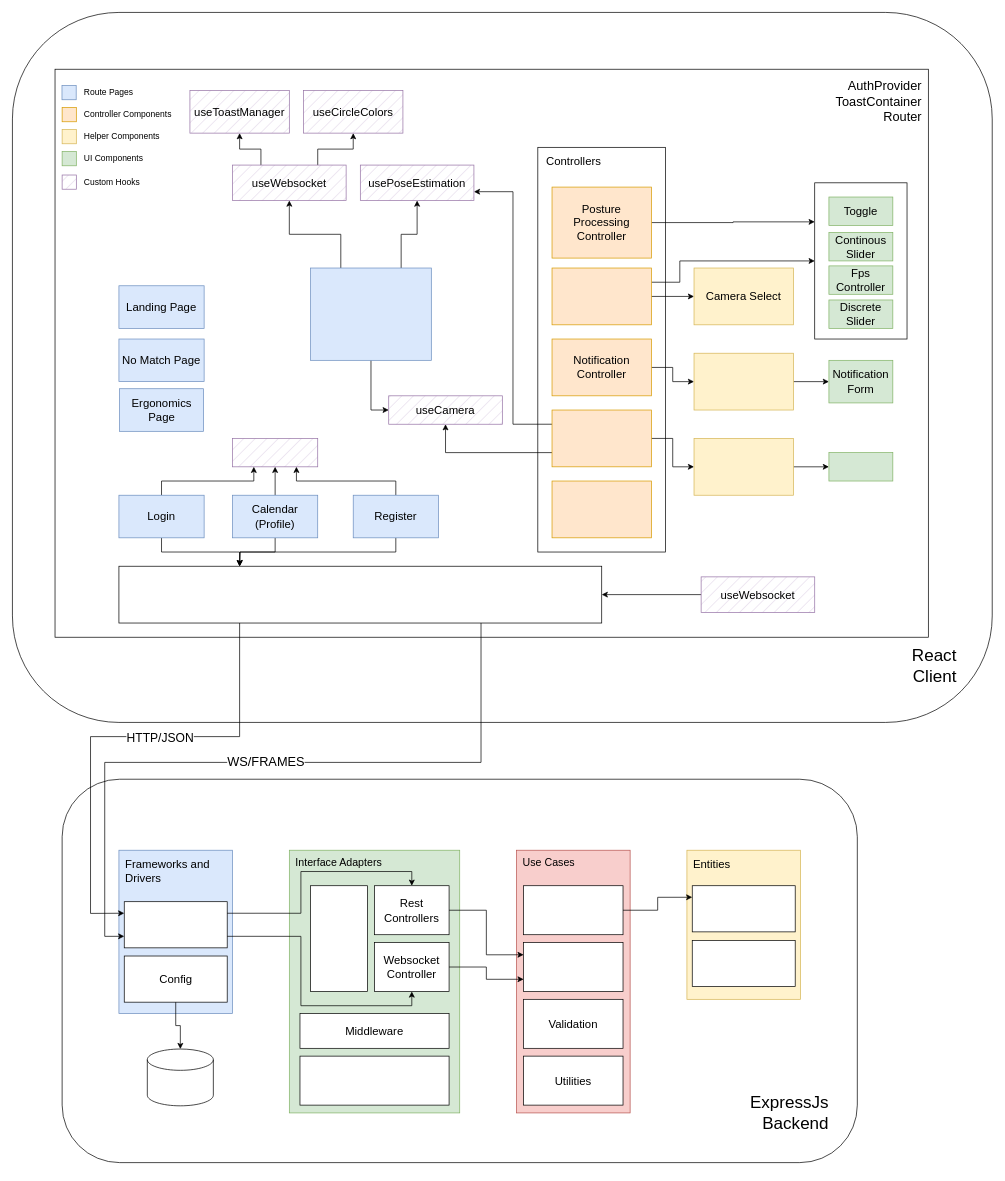
Some shapes in this 1005 by 1181 pixel diagram are drawn without their labels. Here are the shapes that lost their labels. From the top down, the centre of each, then its label:
At [370,313]: "Posture Processing Page".
At [601,296]: "Pose Model Controller".
At [743,381]: "Notification Manager".
At [275,452]: "useAuth".
At [601,438]: "Video Handler".
At [743,466]: "Video Player".
At [860,466]: "Spinner".
At [601,509]: "Canvas Handler".
At [360,594]: "Frontend Services Layer".
At [175,924]: "Server (index.ts)".
At [573,910]: "Actions".
At [743,908]: "Models".
At [338,938]: "Routers".
At [573,967]: "Services".
At [743,963]: "Types".
At [180,1077]: "Database".
At [374,1080]: "Helpers (auth)".
